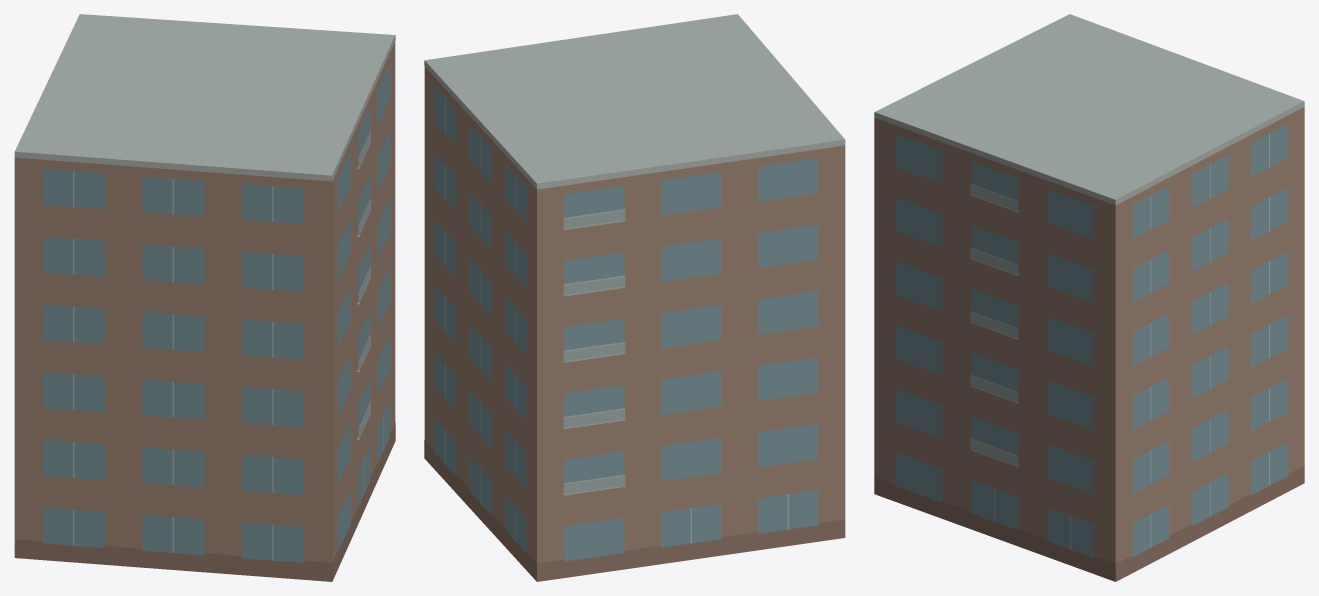
File: survey-upis-32854230.glb
3 views of the same model, side by side, from view 1: azimuth 30°, elevation 25°; view 2: azimuth 150°, elevation 25°; view 3: azimuth 270°, elevation 25° (orthographic). The views are drawn at different scales.
Parts seen in each view (by area): view 1: survey-upis-32854230.tmp; view 2: survey-upis-32854230.tmp; view 3: survey-upis-32854230.tmp.
Boxes of the visible parts, left/top/right/bottom form: survey-upis-32854230.tmp: left=14, top=14, right=395, bottom=581; survey-upis-32854230.tmp: left=424, top=14, right=845, bottom=581; survey-upis-32854230.tmp: left=874, top=14, right=1304, bottom=581.
Size of the model in its own units: 17.43 by 16.7 by 17.05.
